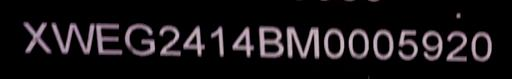letter: (49, 20, 95, 55), (285, 22, 321, 61), (123, 22, 157, 57), (20, 18, 52, 55), (256, 24, 286, 61), (94, 21, 124, 56), (156, 23, 184, 58), (231, 24, 257, 61), (322, 25, 346, 62), (444, 29, 470, 62), (182, 23, 206, 58), (371, 26, 395, 61), (397, 26, 421, 61), (420, 28, 444, 63), (470, 28, 494, 63), (346, 27, 370, 60), (208, 22, 226, 59)
